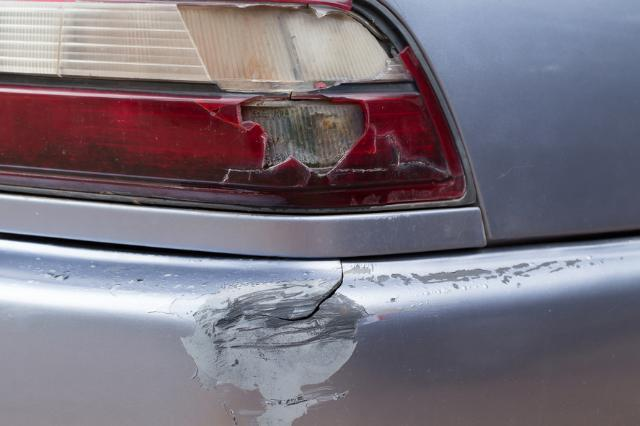Bumper: (0, 242, 640, 426)
Light: (0, 0, 488, 227)
